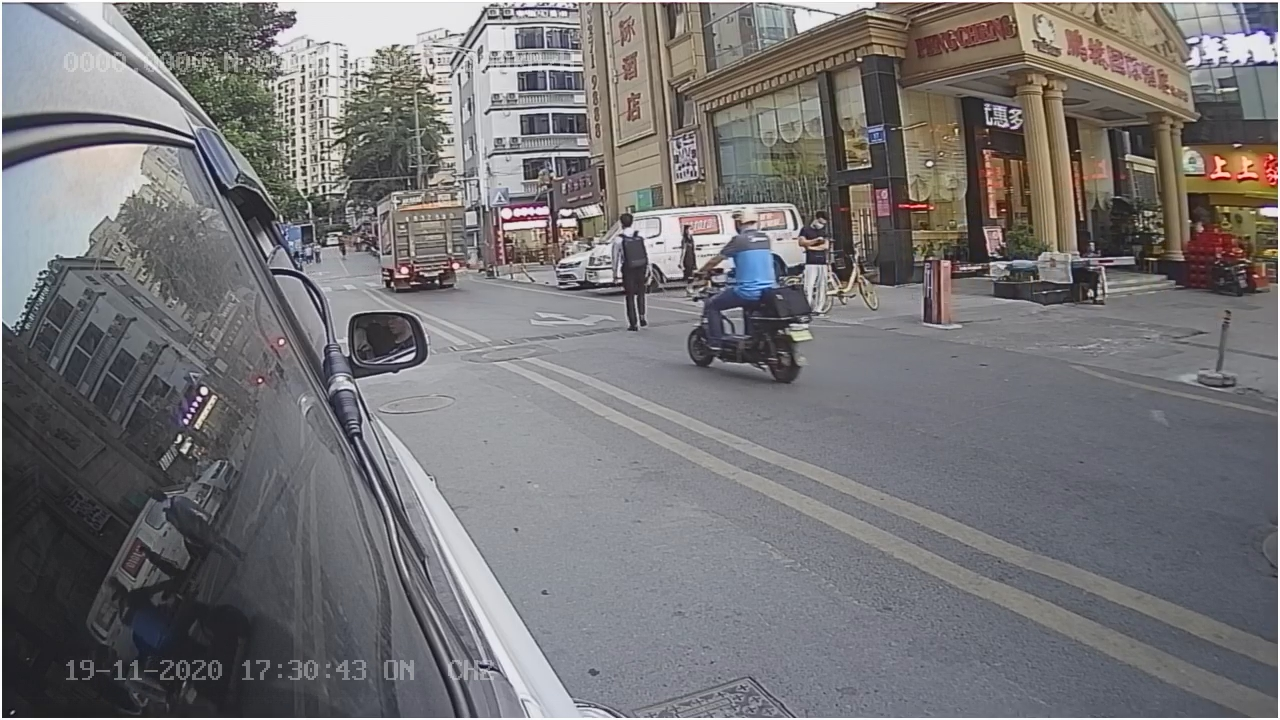person: (709, 205, 776, 283)
